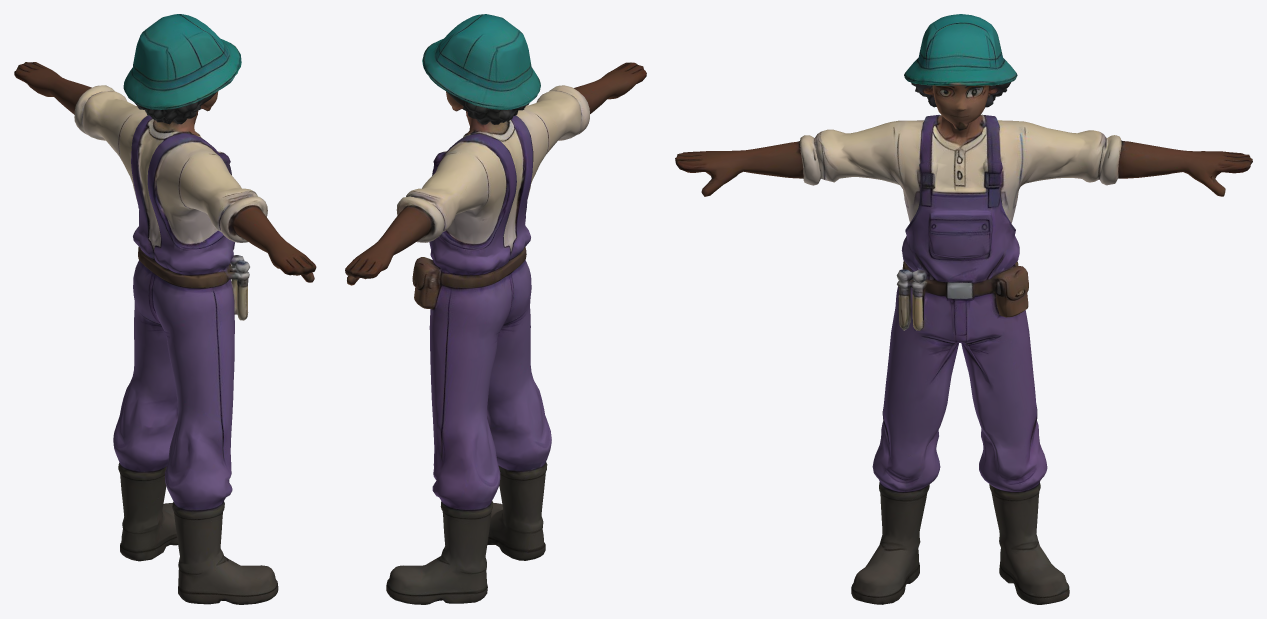
The model's file is n2_sampler.ca04f1c5.glb.
The picture shows the model from 3 angles, left to right: view 1: azimuth 30°, elevation 25°; view 2: azimuth 150°, elevation 25°; view 3: azimuth 270°, elevation 25°; orthographic projection.
Visible parts, largest first — view 1: tripo_node_2a598e40-e105-4383-af32-5138f77c950c; view 2: tripo_node_2a598e40-e105-4383-af32-5138f77c950c; view 3: tripo_node_2a598e40-e105-4383-af32-5138f77c950c.
Part boxes in pixels (x1,y1,x2,y2): tripo_node_2a598e40-e105-4383-af32-5138f77c950c: [14, 14, 316, 604]; tripo_node_2a598e40-e105-4383-af32-5138f77c950c: [345, 14, 646, 604]; tripo_node_2a598e40-e105-4383-af32-5138f77c950c: [675, 14, 1252, 604].
Size of the model in its own units: 0.1915 by 1 by 0.9305.
Materials: 1 (1 with a texture image).
